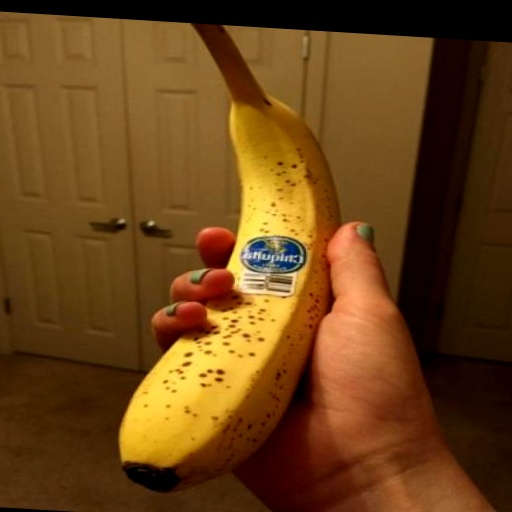fruit: (119, 23, 338, 490)
